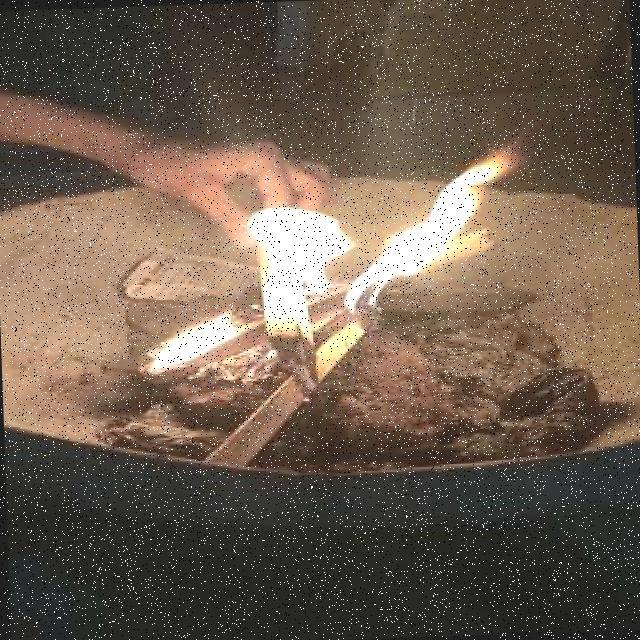Fire: (150, 142, 520, 390)
